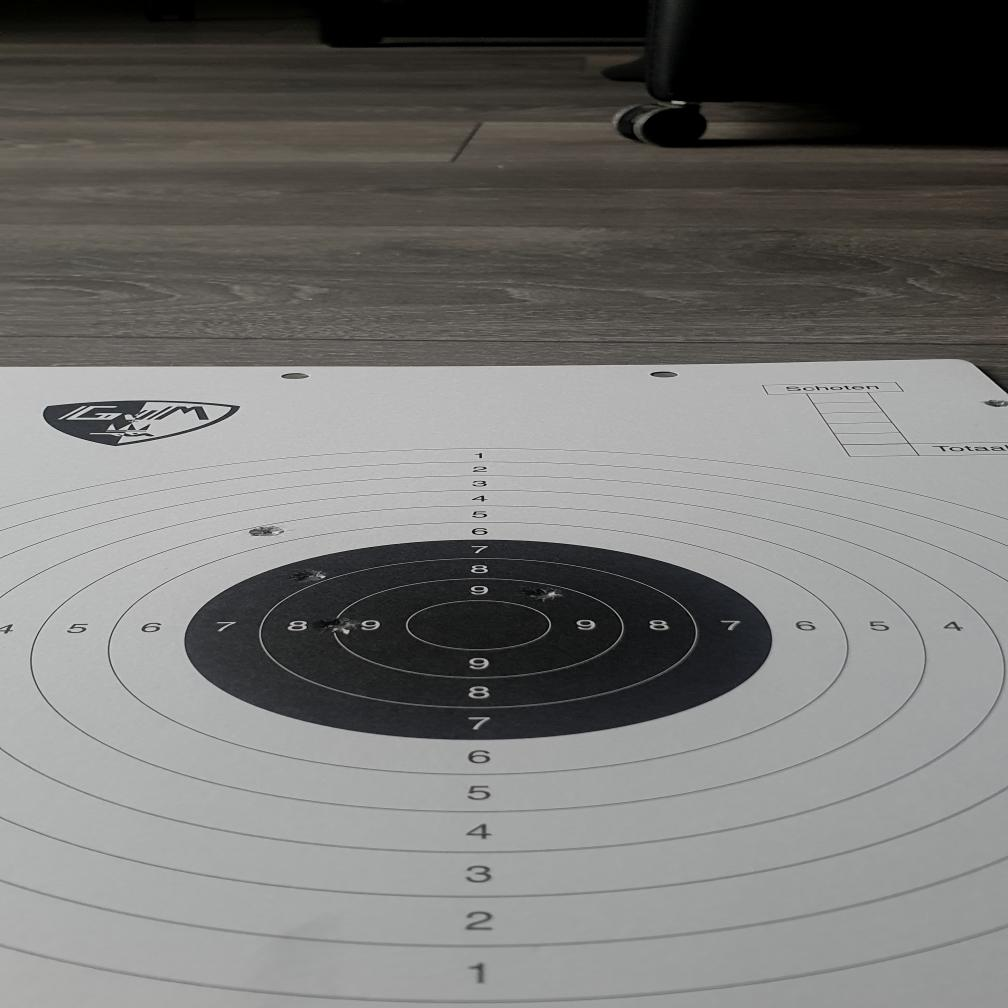0: (979, 398, 1008, 410)
5: (249, 526, 287, 538)
7: (287, 568, 335, 584)
9: (308, 616, 358, 636), (518, 584, 567, 602)
Target: (0, 444, 1008, 1008)
black_contour: (189, 539, 773, 740)
